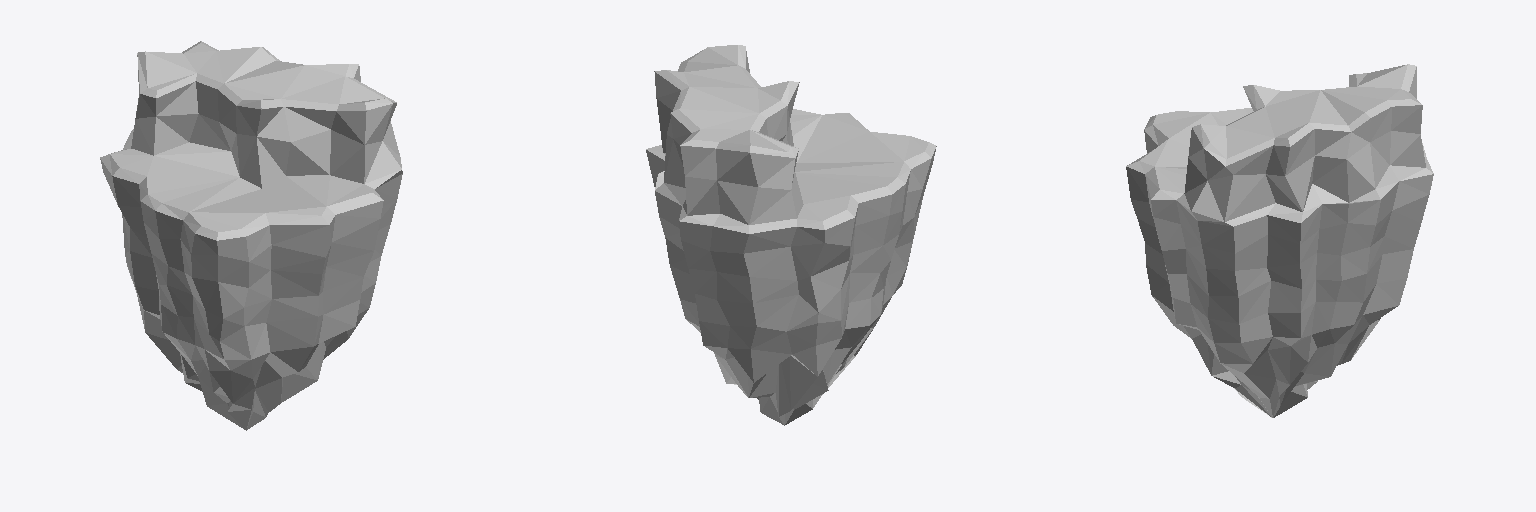
The model's file is cliffMaybe.obj.
3 renders of one model, left to right at view 1: azimuth 30°, elevation 25°; view 2: azimuth 150°, elevation 25°; view 3: azimuth 270°, elevation 25°, orthographic.
Visible parts, largest first — view 1: Plane; view 2: Plane; view 3: Plane.
Part boxes in pixels (left/top/right/bottom): Plane: left=100, top=41, right=402, bottom=430; Plane: left=646, top=45, right=936, bottom=425; Plane: left=1126, top=64, right=1433, bottom=417.
Bounding box in the file's own units: 1.76 × 2.37 × 1.96.